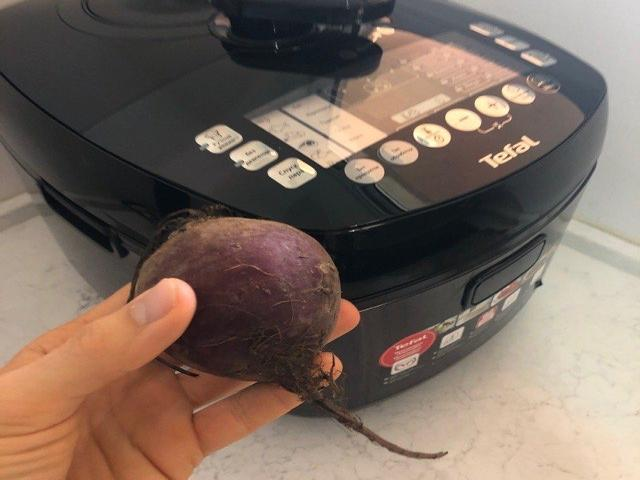beet: (130, 206, 446, 458)
